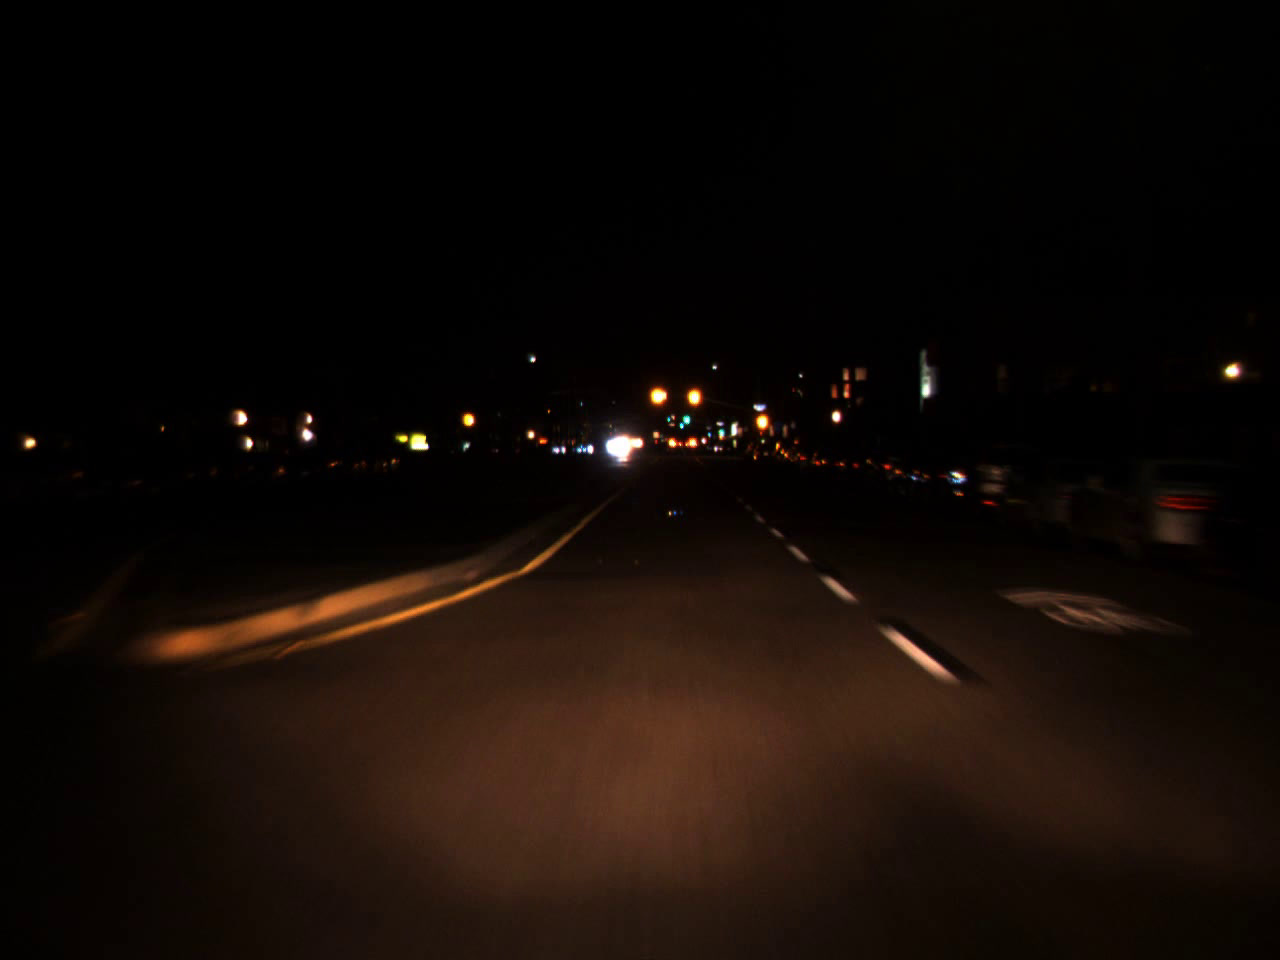go: (681, 408, 691, 426), (718, 424, 725, 436)
warning: (647, 375, 671, 415), (684, 377, 703, 417), (753, 401, 771, 441), (460, 406, 475, 431)
